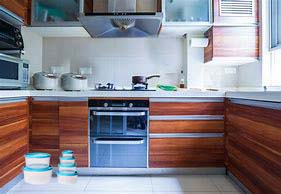copymove: (60, 73, 88, 91)
removal: (150, 37, 173, 63)
spliced: (22, 148, 78, 185)
